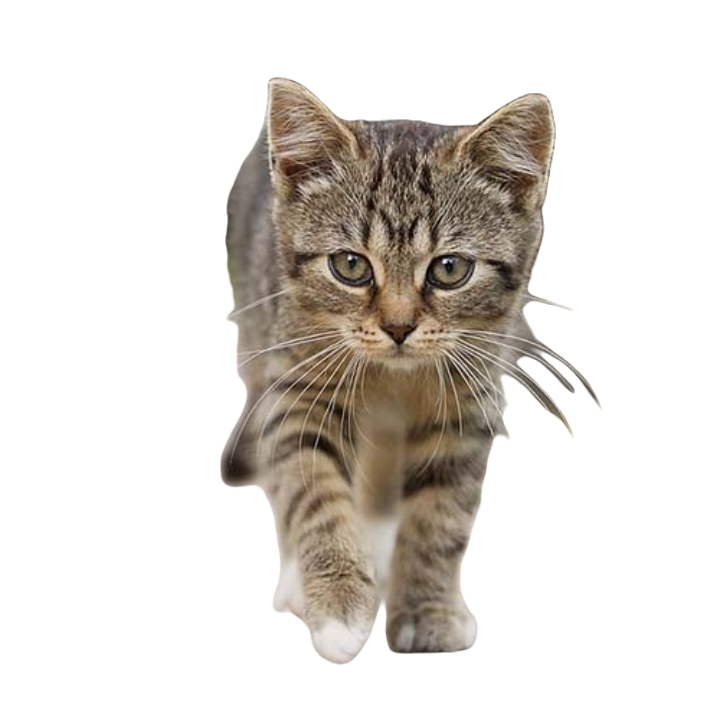Cat: (215, 74, 599, 664)
